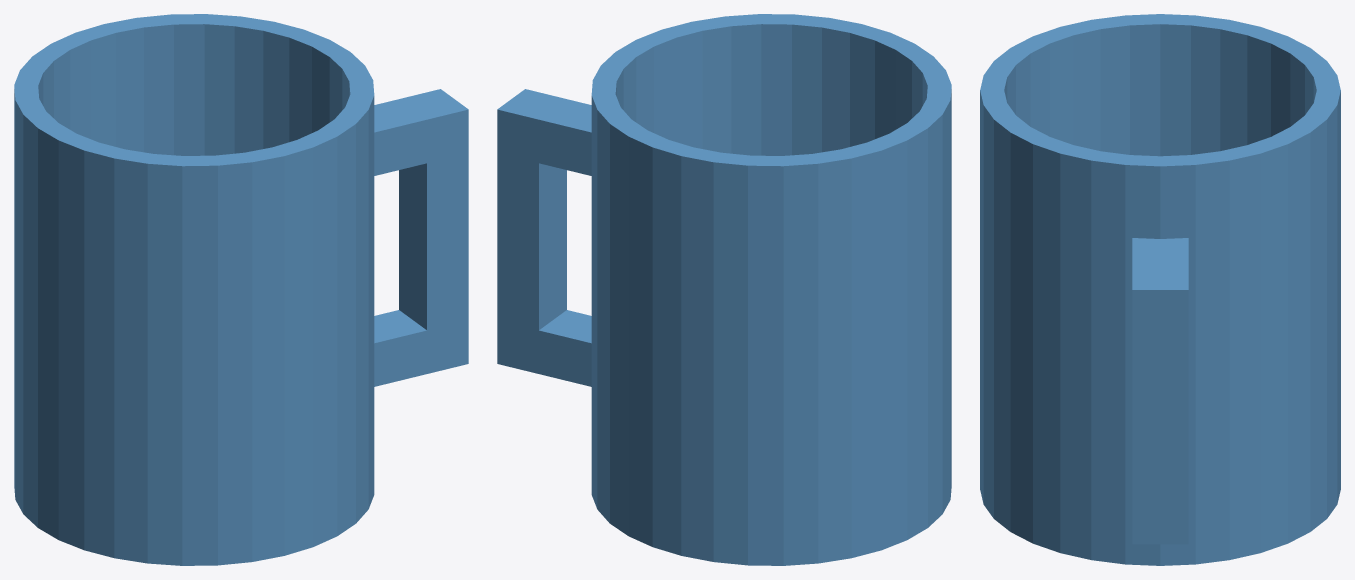
3 views of the same model, side by side, from view 1: azimuth 30°, elevation 25°; view 2: azimuth 150°, elevation 25°; view 3: azimuth 270°, elevation 25° (orthographic).
Parts seen in each view (by area): view 1: HandleEnd, Wall_20, Wall_21, Wall_22, Wall_19, Wall_23, Wall_18, Wall_24, Wall_17, Wall_25, Wall_16, Bottom (+22 smaller); view 2: HandleEnd, Wall_11, Wall_10, Wall_09, Wall_12, Wall_08, Wall_13, Wall_07, Wall_14, Wall_06, Wall_15, Bottom (+22 smaller); view 3: Wall_01, Wall_30, Wall_02, Wall_29, HandleEnd, Wall_03, Wall_28, Wall_04, Wall_27, Bottom, Wall_05, Wall_26 (+22 smaller).
Part boxes in pixels (x1,y1,x2,y2): HandleEnd: [399, 90, 468, 373]; Wall_20: [147, 154, 183, 543]; Wall_21: [182, 155, 217, 544]; Wall_22: [215, 152, 252, 543]; Wall_19: [114, 149, 153, 541]; Wall_23: [245, 147, 284, 540]; Wall_18: [84, 142, 124, 536]; Wall_24: [273, 140, 313, 533]; Wall_17: [58, 133, 98, 528]; Wall_25: [297, 130, 337, 525]; Wall_16: [38, 123, 76, 517]; Bottom: [14, 467, 374, 565]; HandleEnd: [497, 89, 566, 373]; Wall_11: [782, 154, 818, 543]; Wall_10: [748, 155, 783, 544]; Wall_09: [713, 152, 750, 543]; Wall_12: [812, 149, 851, 541]; Wall_08: [681, 147, 720, 540]; Wall_13: [841, 142, 881, 536]; Wall_07: [652, 140, 692, 533]; Wall_14: [867, 133, 907, 528]; Wall_06: [628, 130, 668, 525]; Wall_15: [889, 123, 927, 517]; Bottom: [591, 467, 951, 565]; Wall_01: [1191, 151, 1229, 542]; Wall_30: [1091, 151, 1129, 542]; Wall_02: [1220, 145, 1260, 538]; Wall_29: [1060, 145, 1100, 538]; HandleEnd: [1132, 272, 1188, 544]; Wall_03: [1247, 137, 1287, 530]; Wall_28: [1033, 137, 1073, 530]; Wall_04: [1271, 127, 1310, 521]; Wall_27: [1010, 127, 1049, 521]; Bottom: [980, 468, 1340, 565]; Wall_05: [1291, 115, 1326, 509]; Wall_26: [994, 115, 1029, 509].
Bounding box in the file's own units: 0.12 × 0.11 × 0.09.
